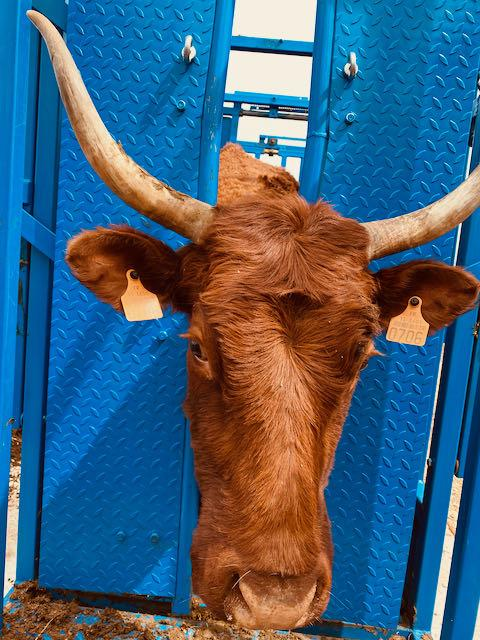muzzles: (214, 557, 328, 634)
